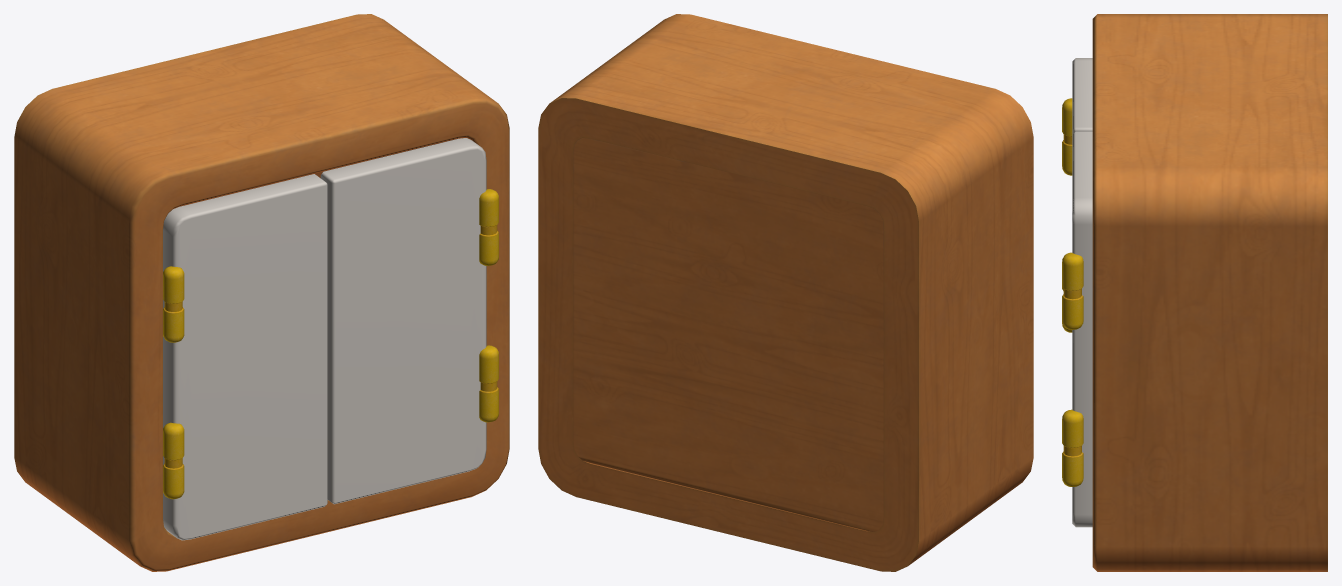
The model's file is Wood_Door.FBX.
3 renders of one model, left to right at view 1: azimuth 30°, elevation 25°; view 2: azimuth 150°, elevation 25°; view 3: azimuth 270°, elevation 25°, orthographic.
Visible parts, largest first — view 1: Wood, Door1, Door002; view 2: Wood; view 3: Wood, Door1, Door002.
Part boxes in pixels (bbox=[...]): Wood: bbox=[14, 14, 509, 571]; Door1: bbox=[320, 138, 498, 504]; Door002: bbox=[163, 174, 327, 540]; Wood: bbox=[538, 14, 1033, 571]; Wood: bbox=[1092, 14, 1327, 571]; Door1: bbox=[1062, 131, 1092, 527]; Door002: bbox=[1062, 58, 1092, 332].
Size of the model in its own units: 83.28 by 83.28 by 50.08.
